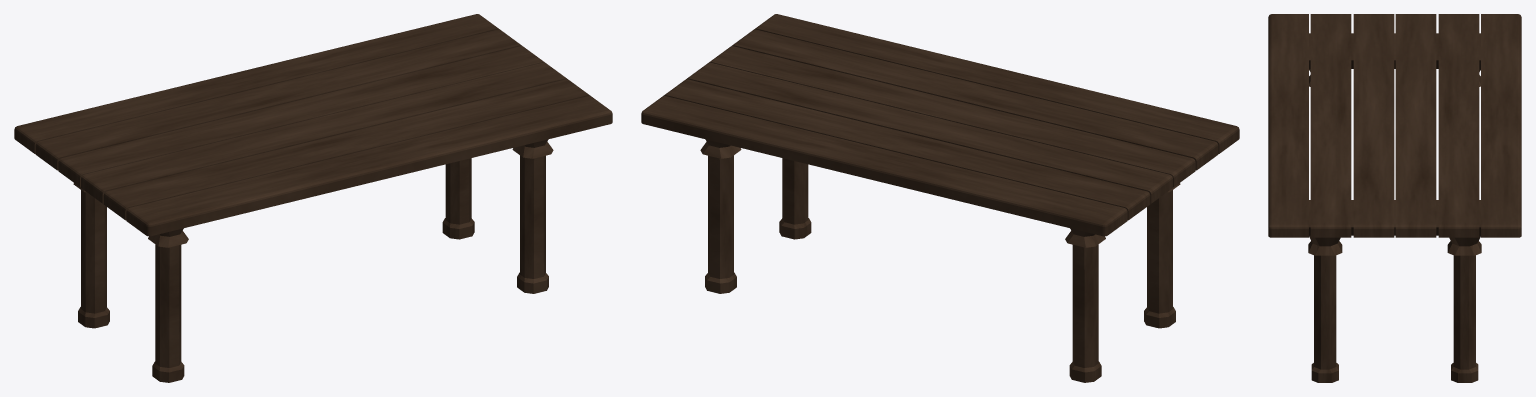
File: woodstand02.fbx
The picture shows the model from 3 angles, left to right: view 1: azimuth 30°, elevation 25°; view 2: azimuth 150°, elevation 25°; view 3: azimuth 270°, elevation 25°; orthographic projection. The views are drawn at different scales.
Parts seen in each view (by area): view 1: wooden stand.005; view 2: wooden stand.005; view 3: wooden stand.005.
Part boxes in pixels (bbox=[...]): wooden stand.005: bbox=[14, 14, 612, 382]; wooden stand.005: bbox=[641, 14, 1239, 382]; wooden stand.005: bbox=[1268, 14, 1521, 382].
Bounding box in the file's own units: 196 × 74.76 × 98.36.
